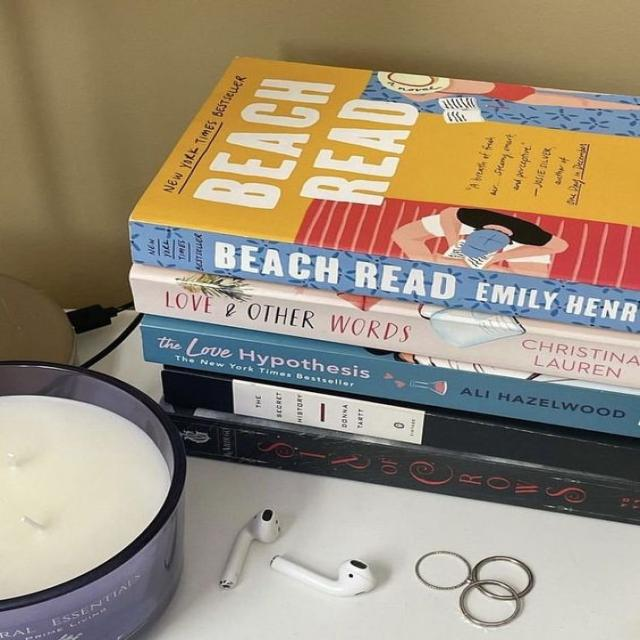book: (130, 264, 639, 389), (142, 315, 639, 438), (127, 220, 639, 334), (162, 370, 639, 481), (184, 421, 639, 526)
candle: (0, 361, 186, 639)
